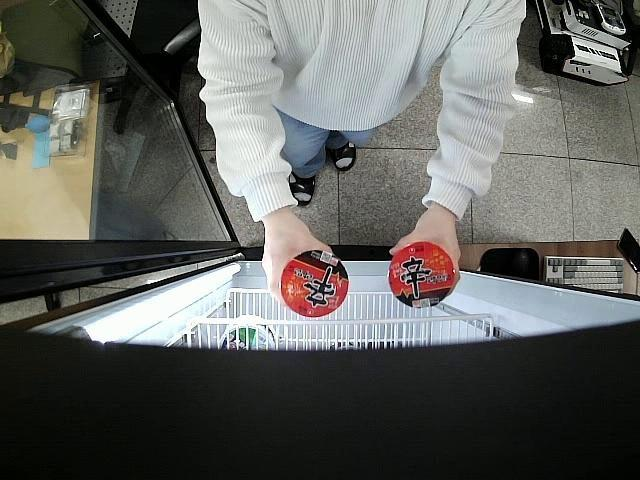02_shinRamen_S: (390, 239, 455, 308), (282, 252, 348, 316)
